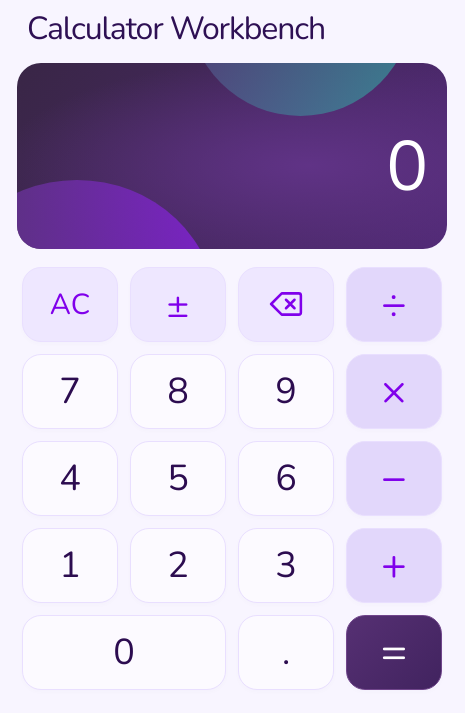
calculator keypad › shows DIVISION_BY_ZERO errors and permits editing/retry
Click the button "8" at x=178, y=391, box top-left (130, 354), bottom-right (226, 429)
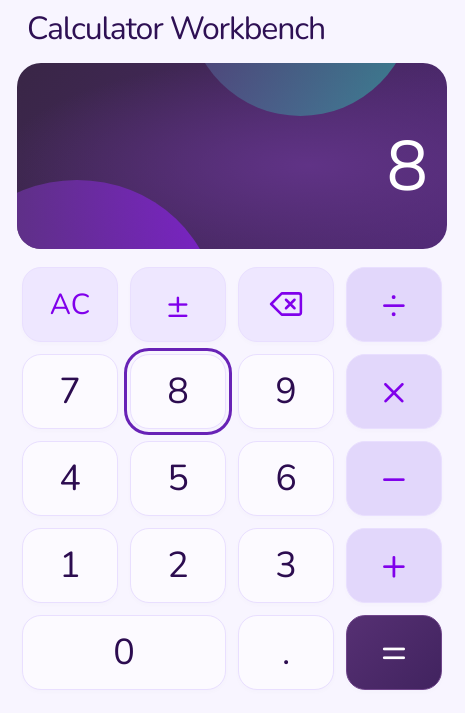
Click the button named "Divide" at x=394, y=304, box top-left (346, 267), bottom-right (442, 342)
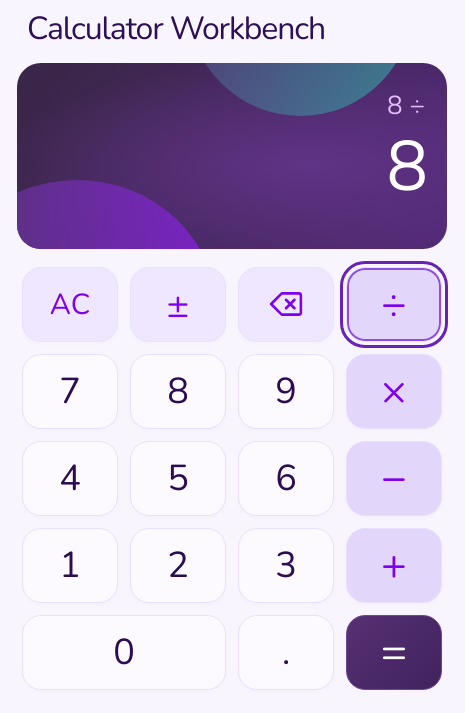
Click the button "0" at x=124, y=652, box top-left (22, 615), bottom-right (226, 690)
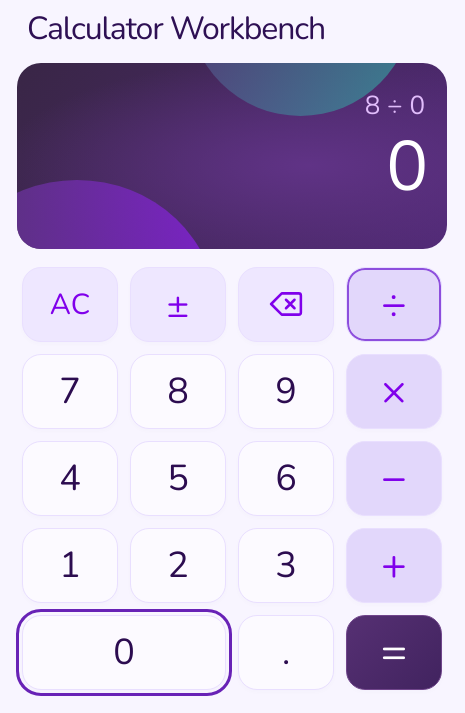
Click the button named "Equals" at x=394, y=652, box top-left (346, 615), bottom-right (442, 690)
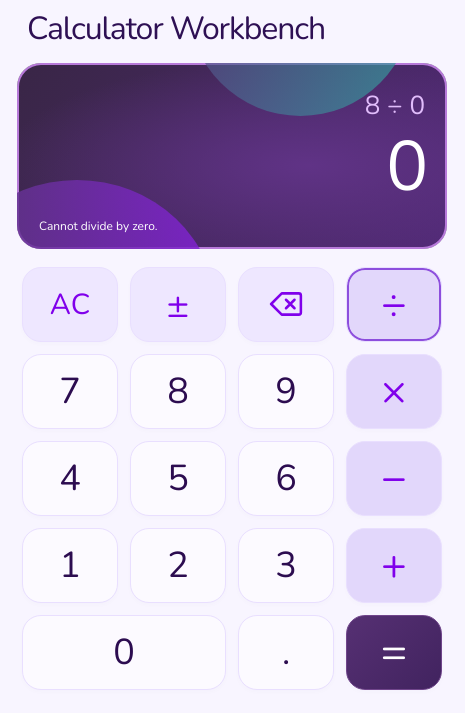
Check: the message reads "Cannot divide by zero.", box top-left (39, 218), bottom-right (157, 234)
Click the button "2" at x=178, y=565, box top-left (130, 528), bottom-right (226, 603)
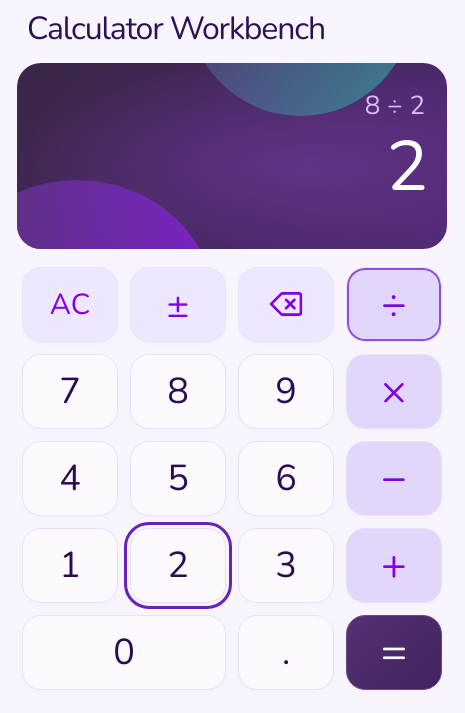
Click the button named "Equals" at x=394, y=652, box top-left (346, 615), bottom-right (442, 690)
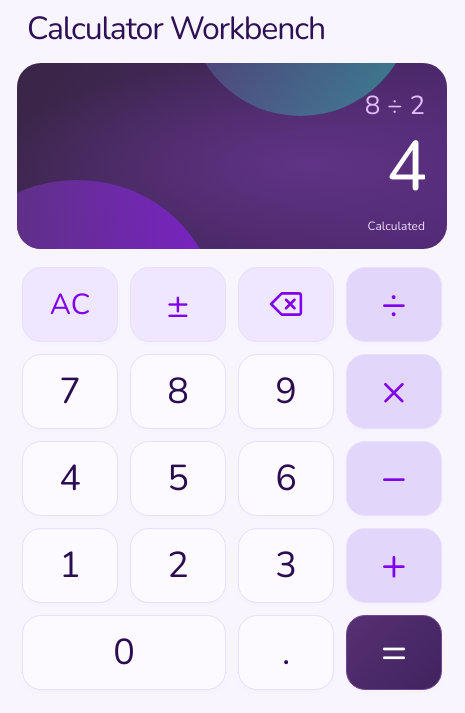
Check: the text named "Result" reads "4", box top-left (386, 119), bottom-right (425, 215)
